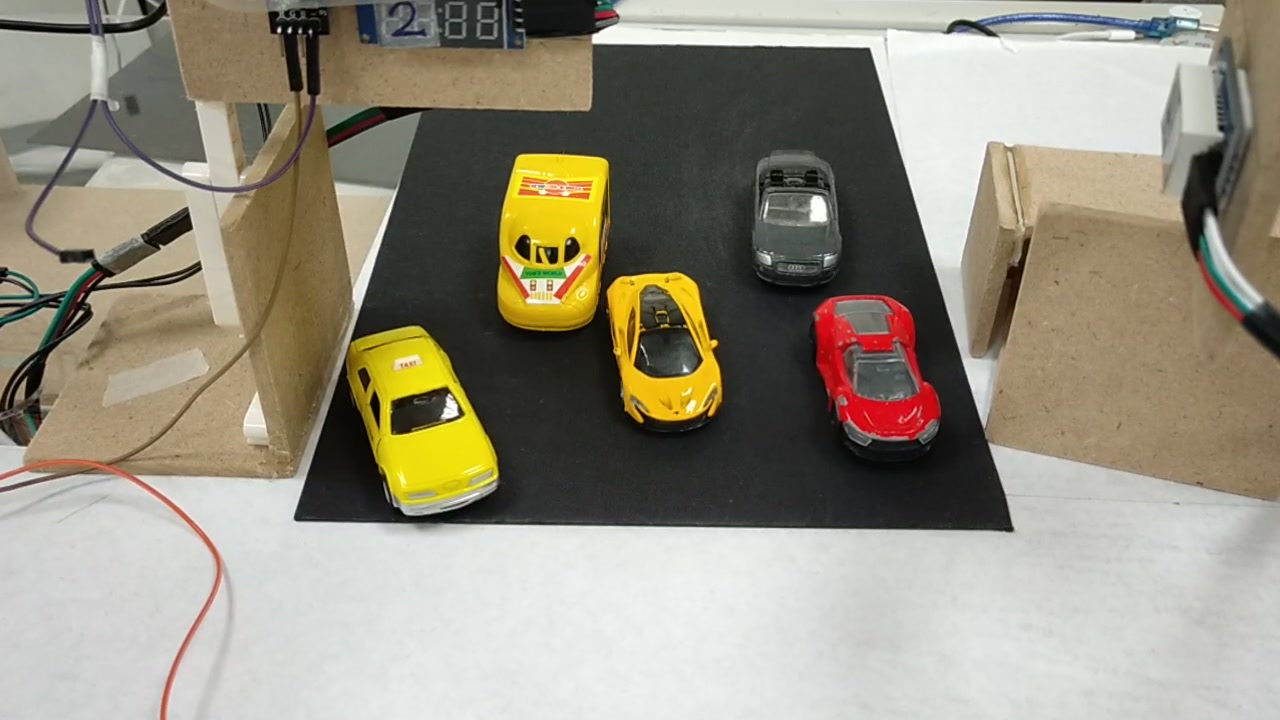car: (346, 333, 501, 517), (805, 292, 944, 458), (605, 279, 729, 436), (746, 150, 841, 286)
